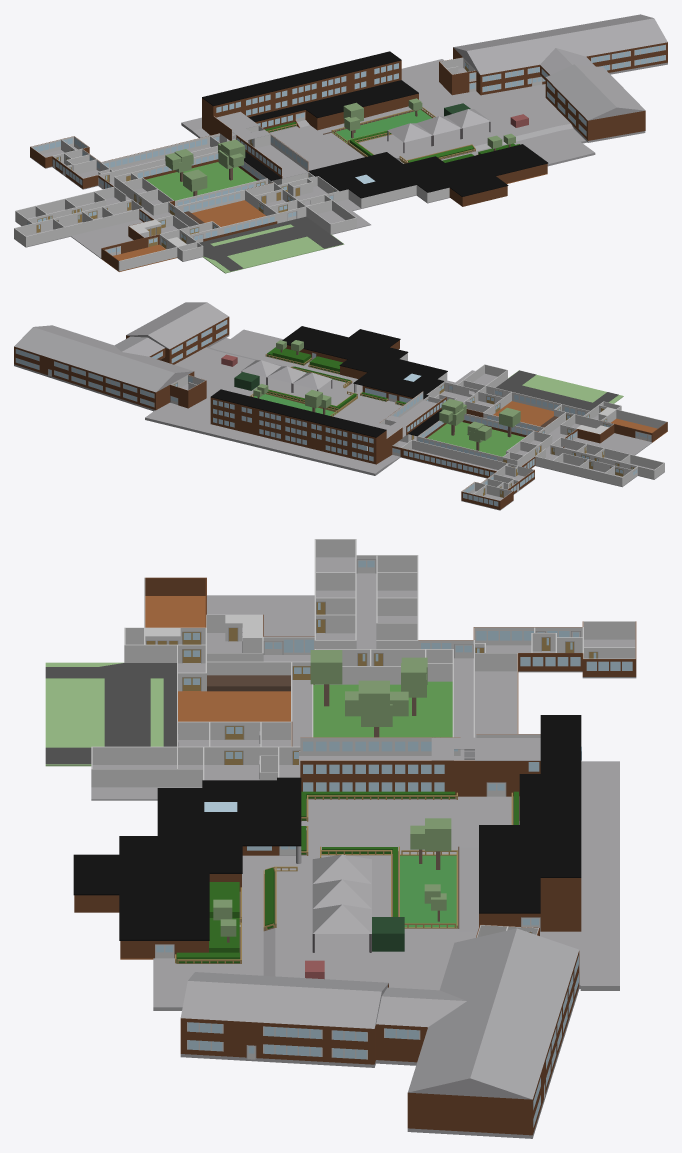
Rendered from map.gltf.
3 renders of one model, top to bottom at view 1: azimuth 30°, elevation 25°; view 2: azimuth 150°, elevation 25°; view 3: azimuth 270°, elevation 25°, orthographic. The views are drawn at different scales.
Parts seen in each view (by area): view 1: Part (×45); view 2: Part (×37); view 3: Part (×59).
Part boxes in pixels (x1,y1,x2,y2): Part (×45): (25,14,667,273); Part (×37): (14,302,667,487); Part (×59): (45,573,635,1135).
Size of the model in its own units: 1049 by 60.69 by 450.
